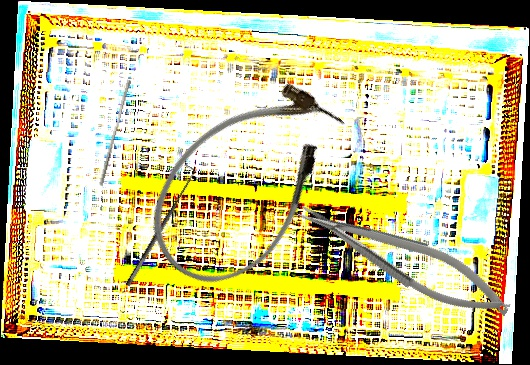Cannula: (122, 55, 369, 311)
Hook Surgical: (116, 163, 200, 288)
Needle Holder: (291, 182, 519, 335)
Pusher: (98, 78, 132, 188)
